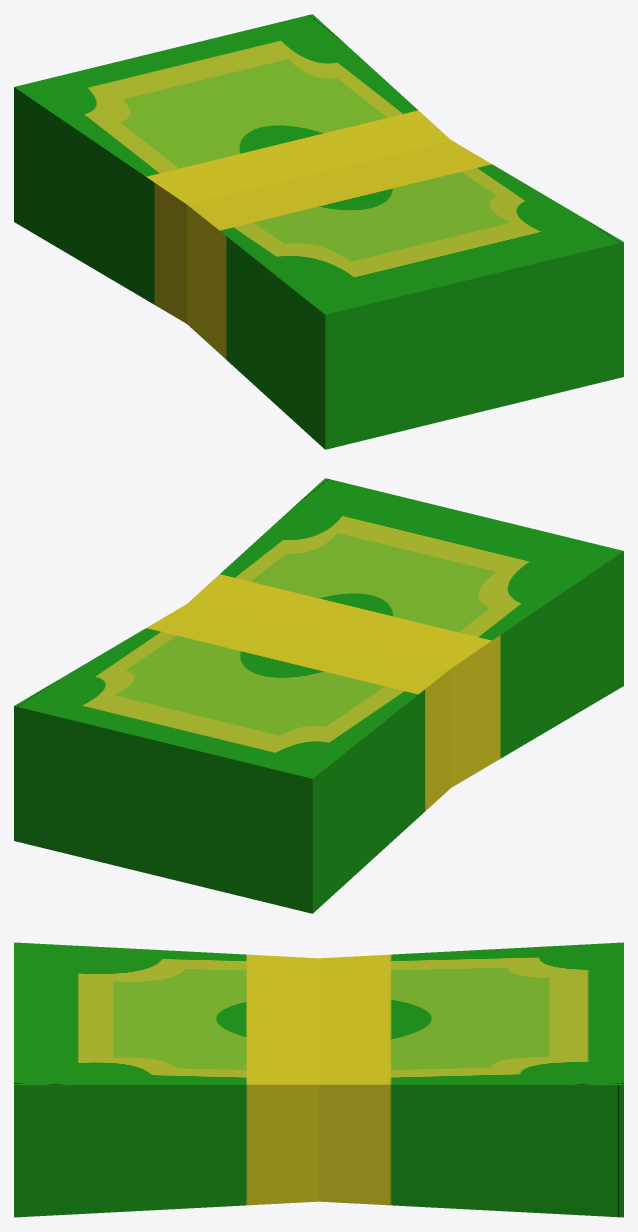
The model's file is money_3d.fbx.
3 renders of one model, top to bottom at view 1: azimuth 30°, elevation 25°; view 2: azimuth 150°, elevation 25°; view 3: azimuth 270°, elevation 25°, orthographic. The views are drawn at different scales.
Parts seen in each view (by area): view 1: Plane; view 2: Plane; view 3: Plane.
Boxes of the visible parts, x1,y1,x2,y2 form: Plane: [14, 14, 623, 449]; Plane: [14, 478, 623, 913]; Plane: [14, 942, 623, 1217].
Size of the model in its own units: 50.93 by 21.99 by 91.95.
Materials: 1 (1 with a texture image).
